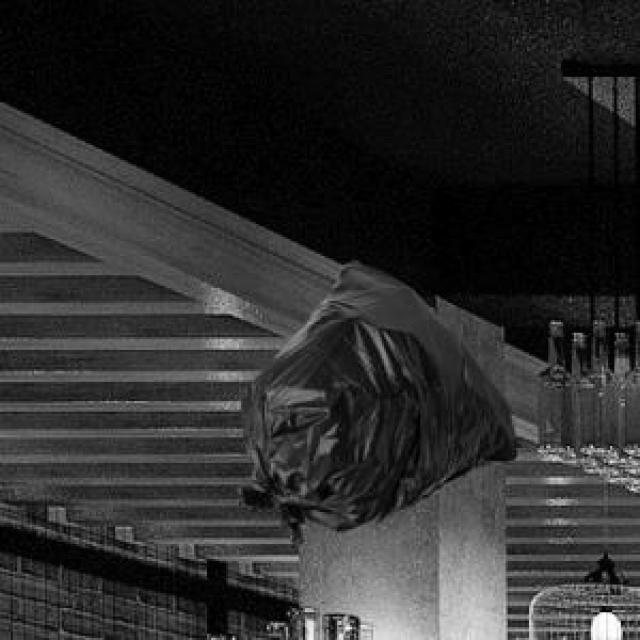miscellaneous trash: (235, 258, 516, 540)
